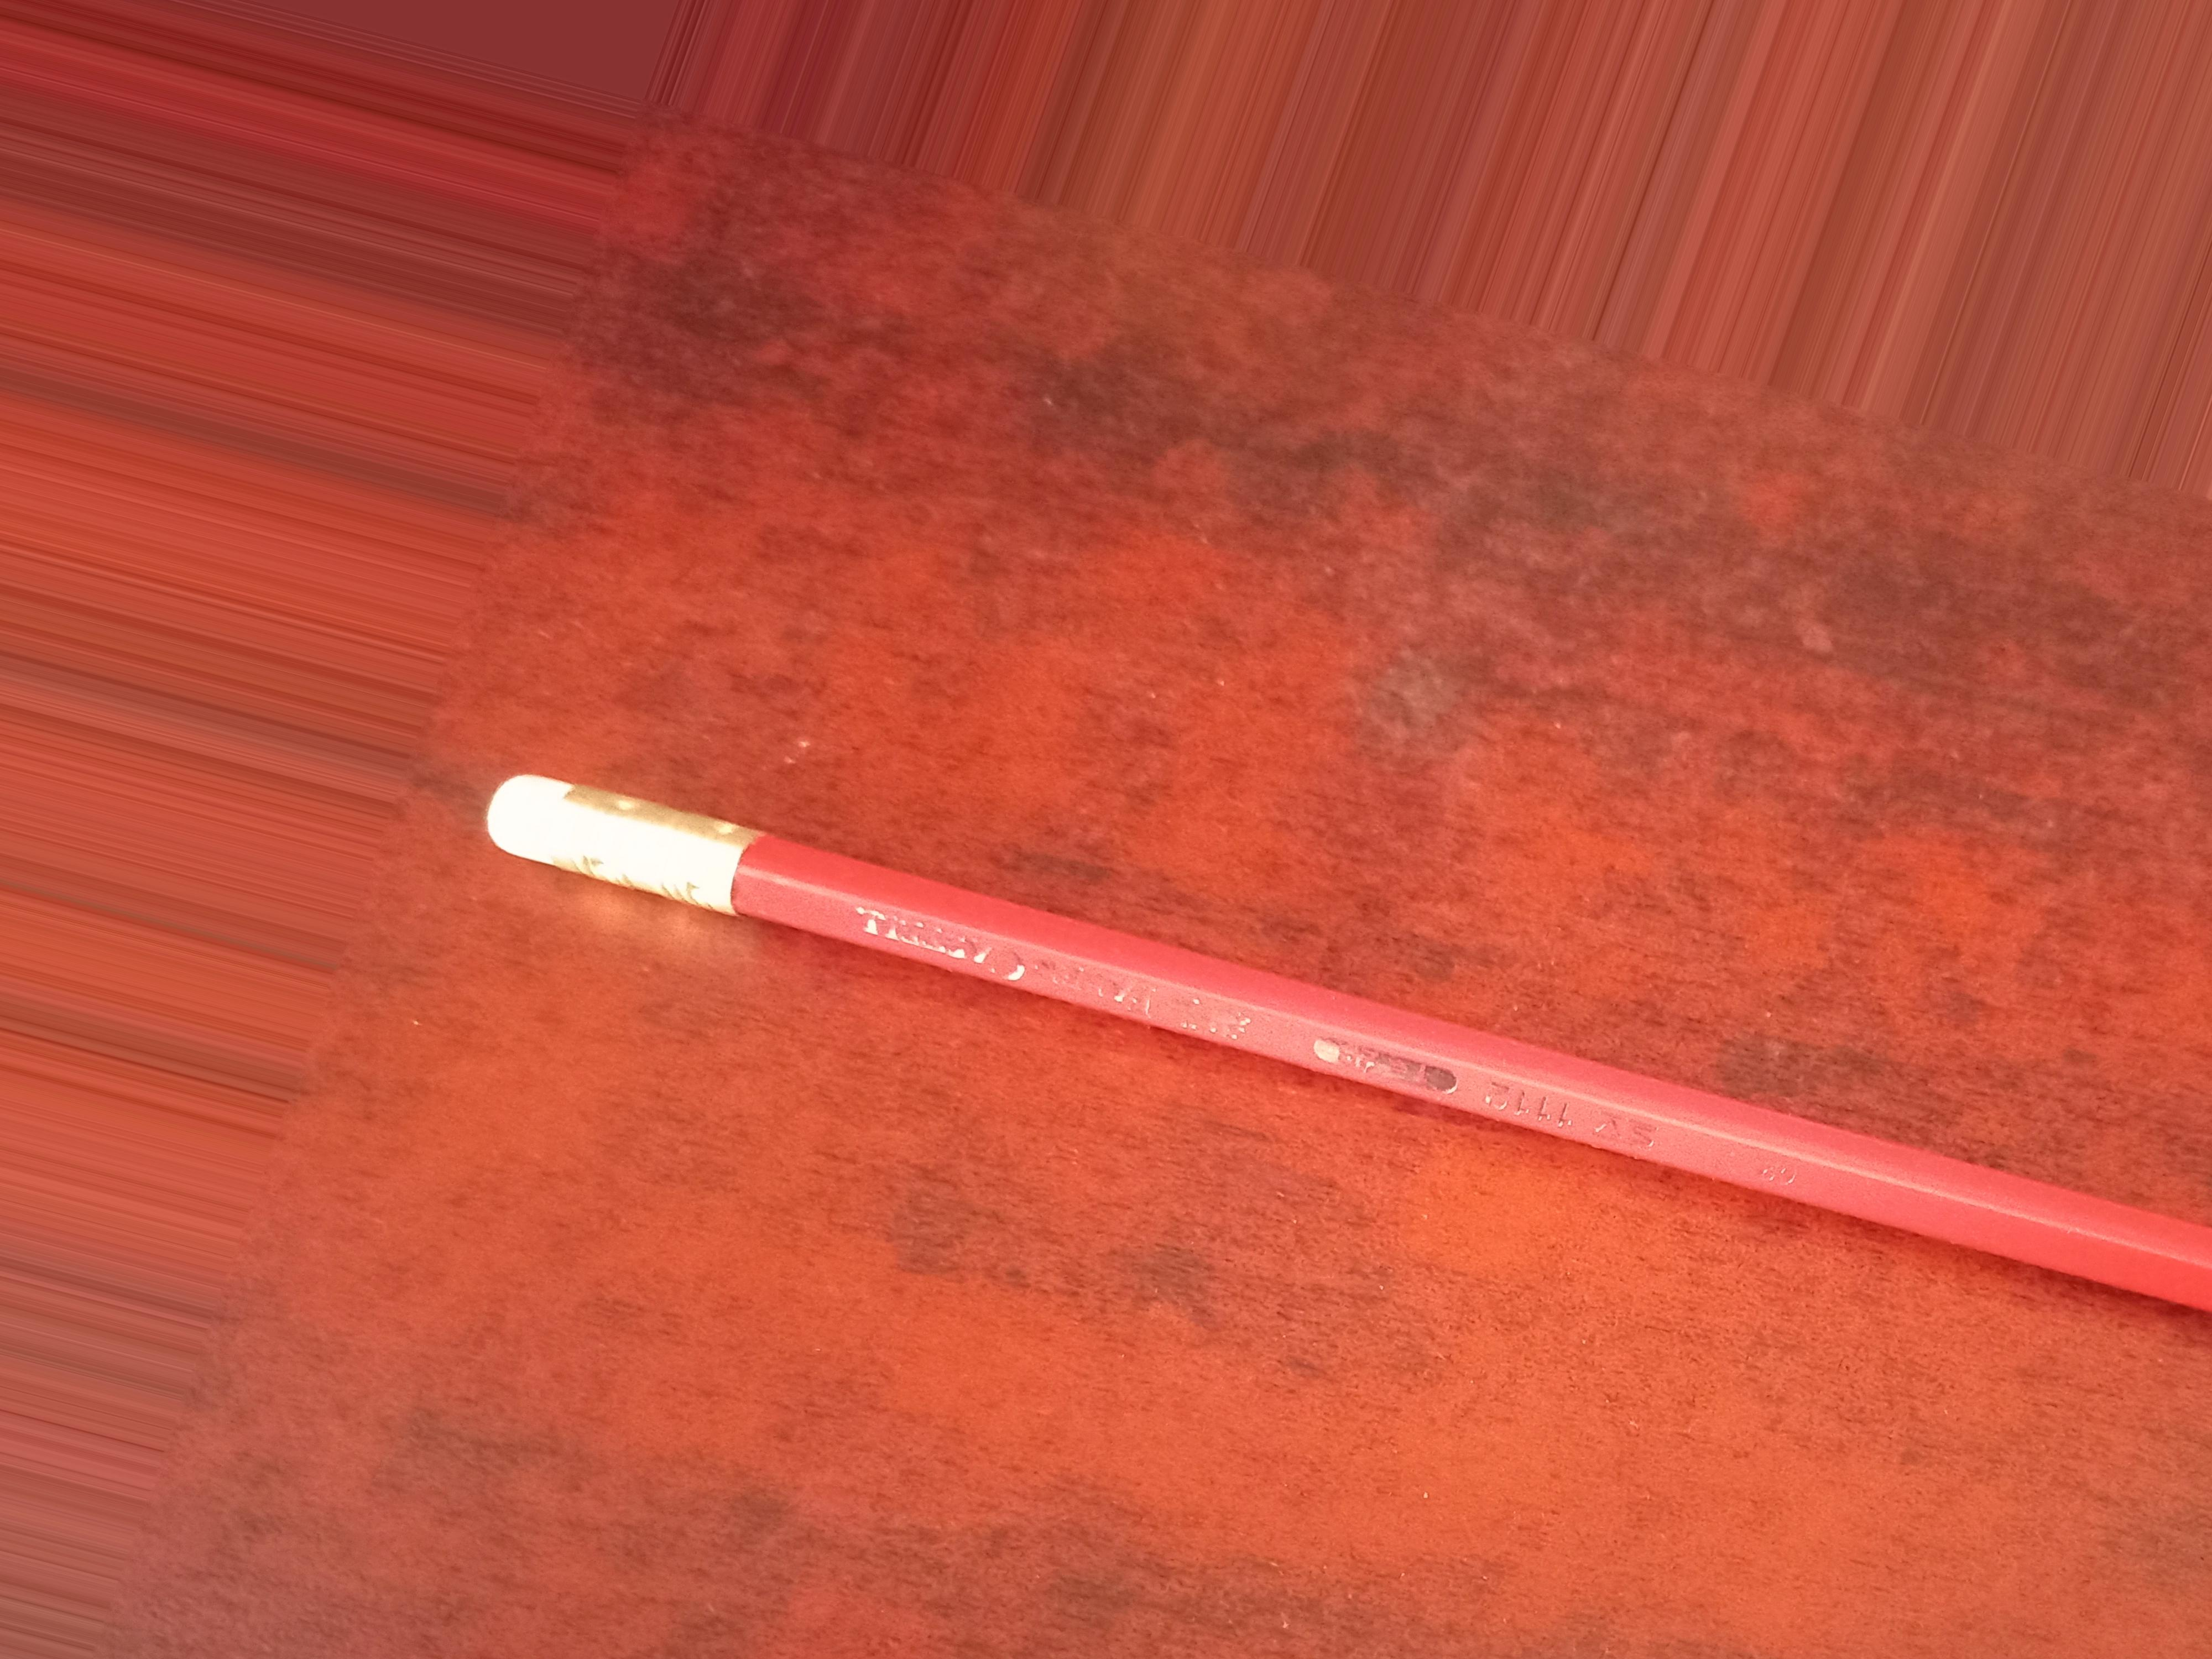pencil: (420, 777, 2212, 1307)
